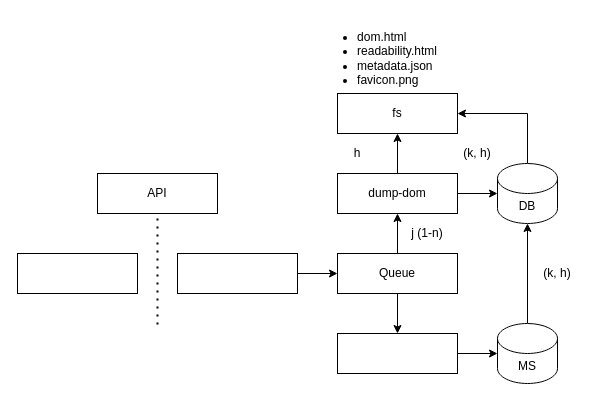
The diagram is 595 pixels wide and 401 high, and some of its shapes have lost their labels. Here are the shapes that lost their labels. From the top down, the centre of each, then its label:
point (77, 273): Frontend
point (237, 273): Backend
point (397, 353): git-clone
